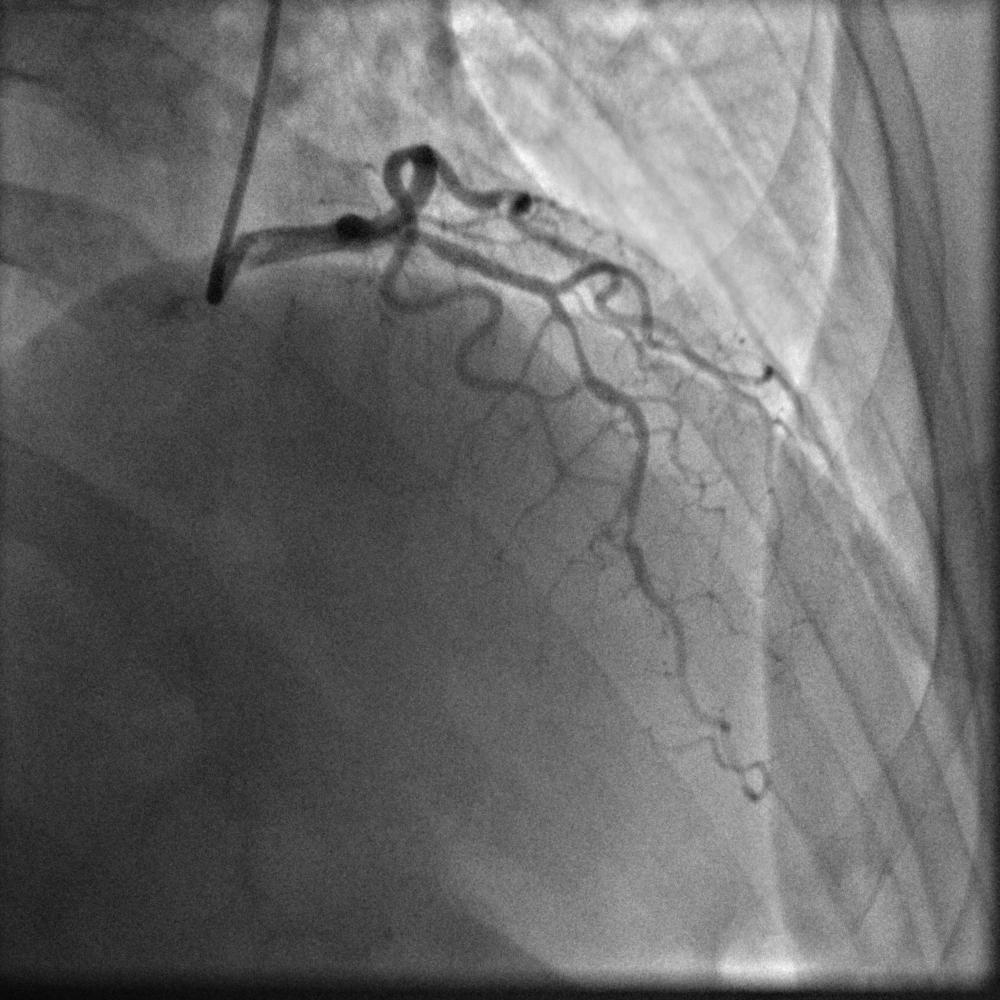Stenosis: (556, 309, 594, 375)
